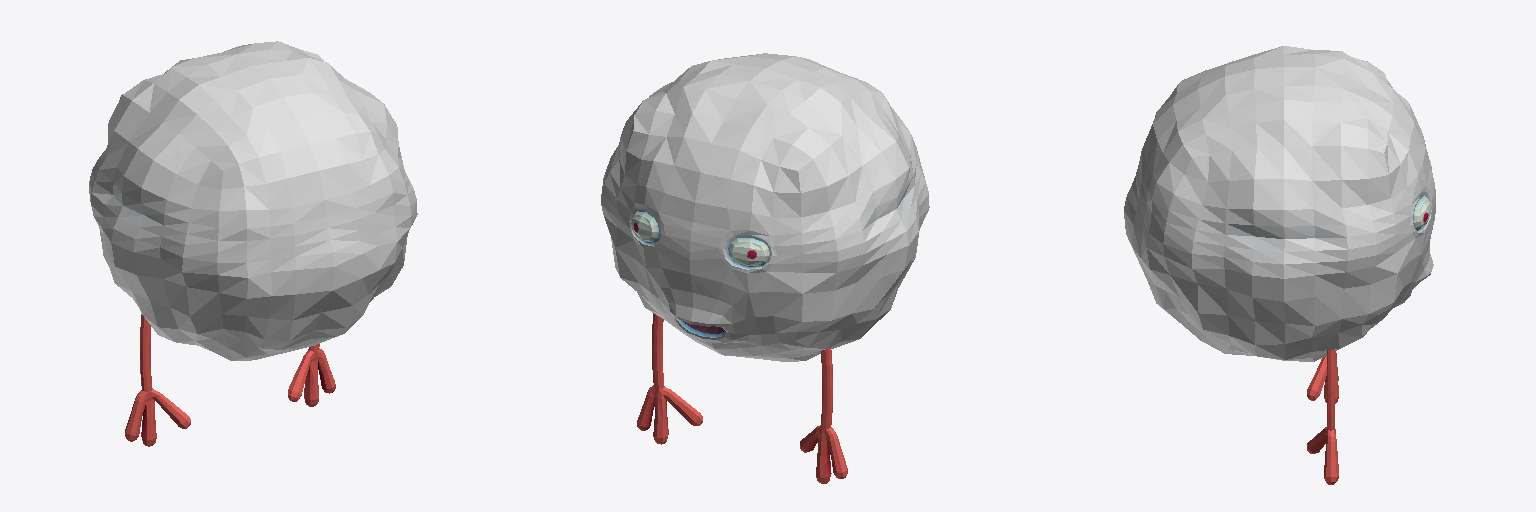
The picture shows the model from 3 angles: view 1: azimuth 30°, elevation 25°; view 2: azimuth 150°, elevation 25°; view 3: azimuth 270°, elevation 25°; orthographic projection.
Parts seen in each view (by area): view 1: Fleeb_Mesh; view 2: Fleeb_Mesh; view 3: Fleeb_Mesh.
Part boxes in pixels (left/top/right/bottom): Fleeb_Mesh: left=89, top=41, right=417, bottom=446; Fleeb_Mesh: left=601, top=53, right=929, bottom=483; Fleeb_Mesh: left=1124, top=46, right=1435, bottom=484.
Size of the model in its own units: 0.2128 by 0.2694 by 0.2018.
Materials: 1 (1 with a texture image).